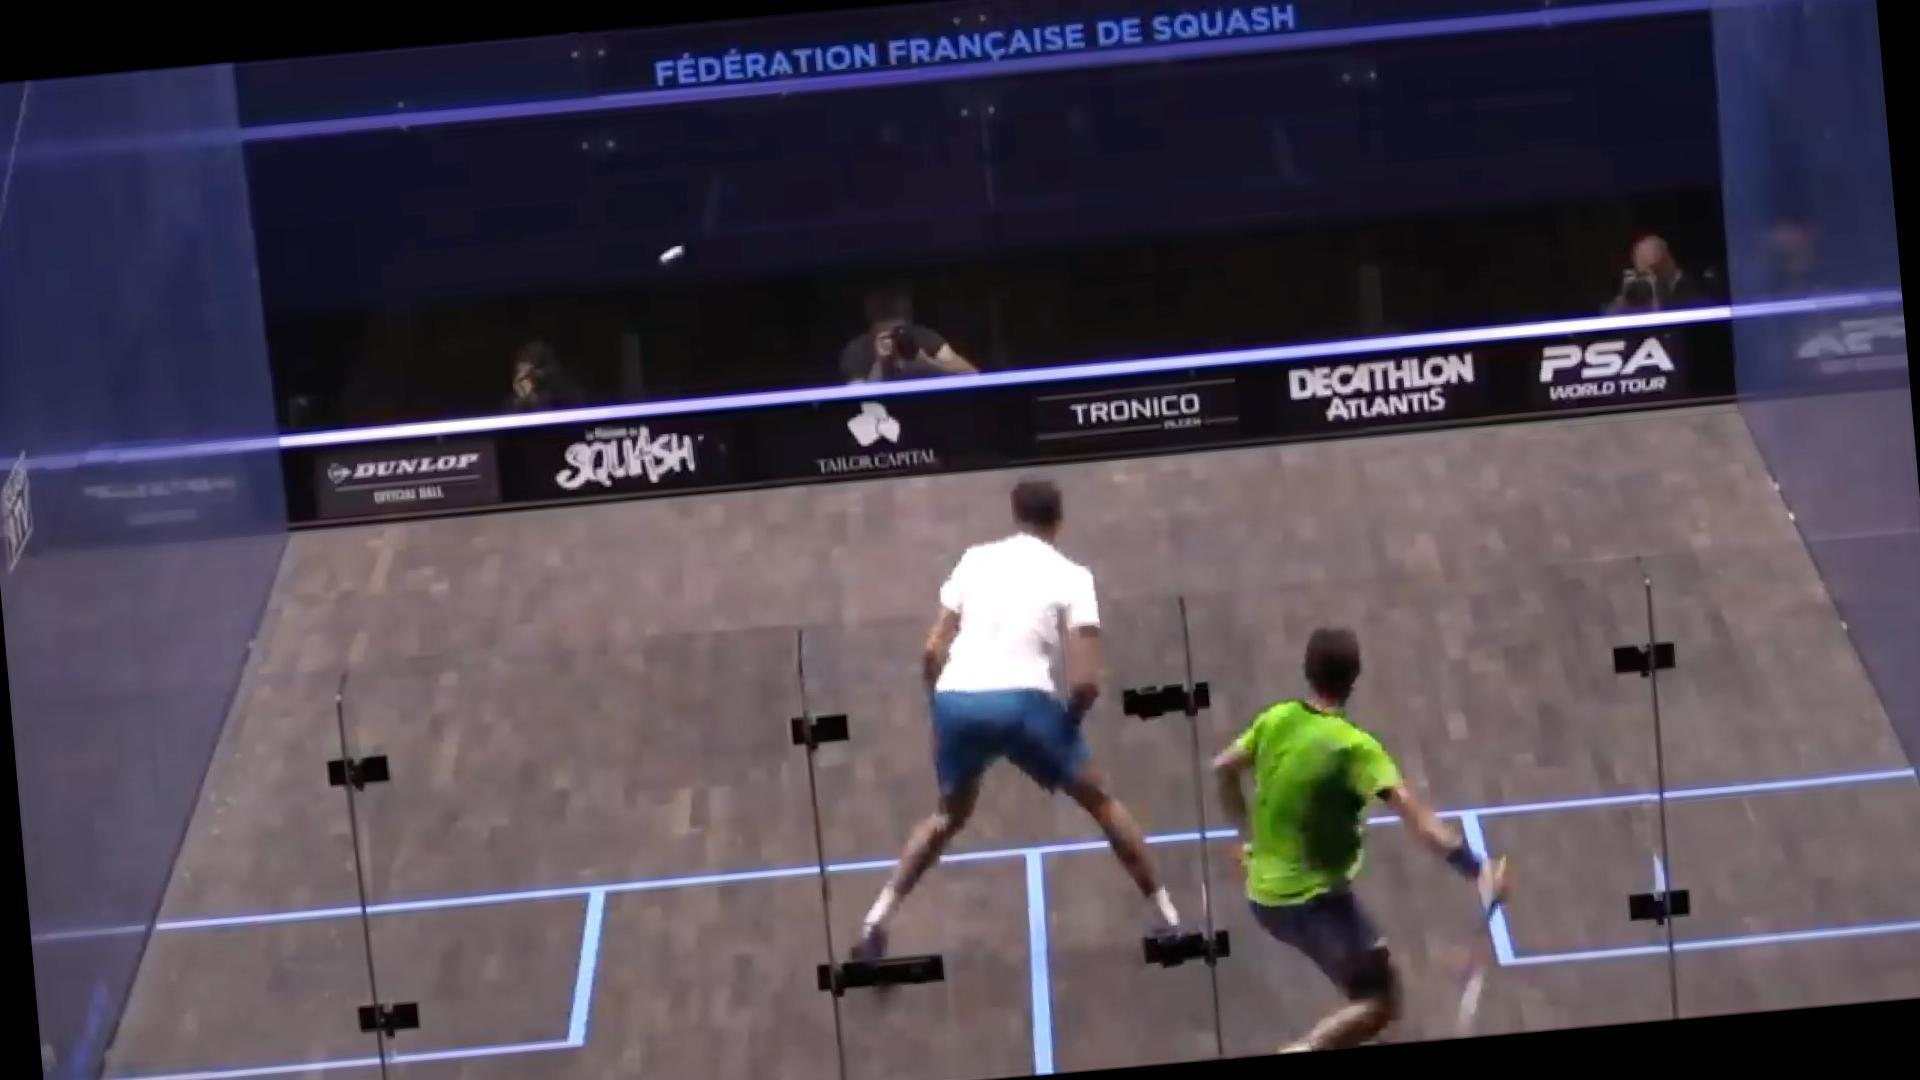Squash-Ball: (653, 236, 699, 282)
